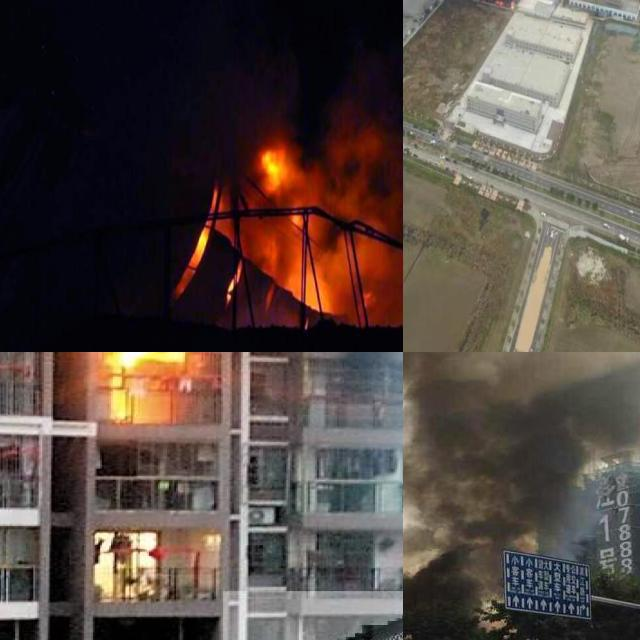fire: (187, 142, 365, 310), (100, 352, 187, 410), (258, 144, 290, 186), (483, 0, 515, 9)
smoke: (403, 352, 640, 628)
